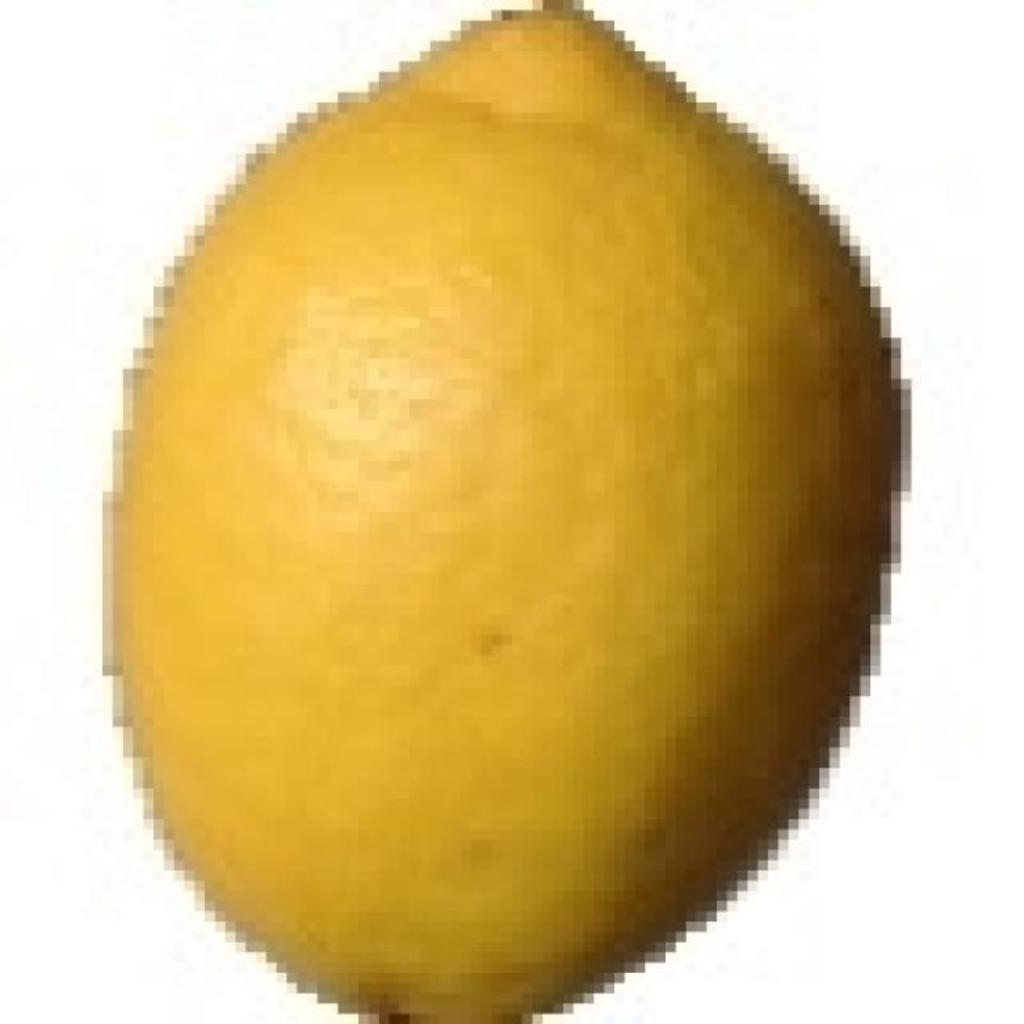lemon: (114, 0, 900, 1024)
